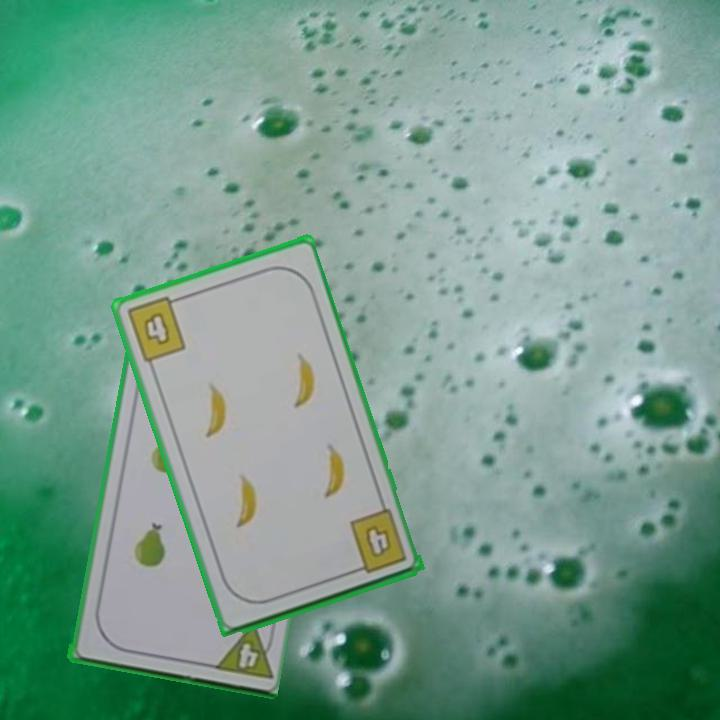4b: (122, 292, 189, 365), (345, 505, 410, 577)
4p: (207, 619, 278, 682)
